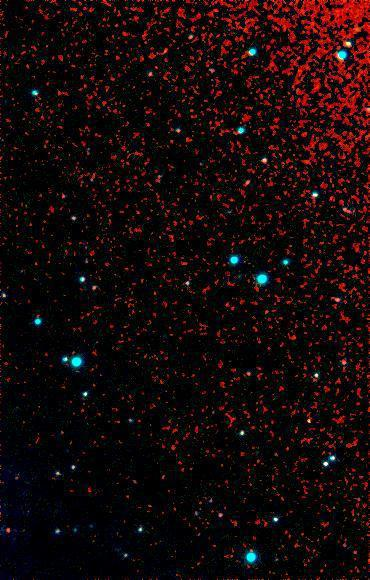star: (0, 511, 21, 541)
